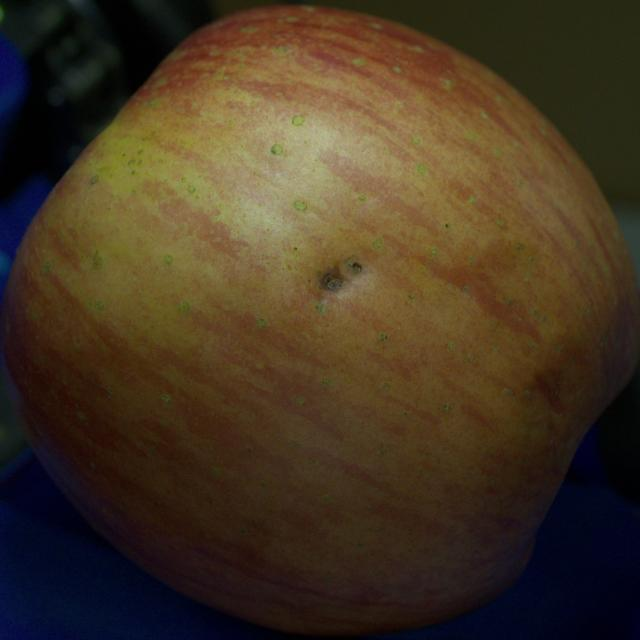apple: (0, 7, 639, 634)
pest: (321, 272, 343, 290), (349, 261, 361, 272)
